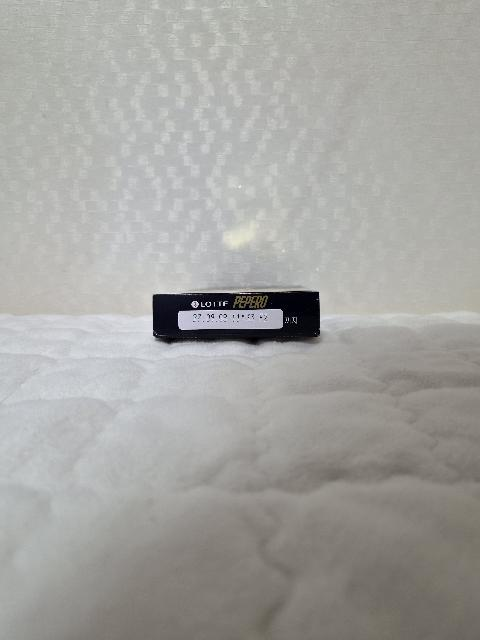pepero: (152, 285, 320, 338)
